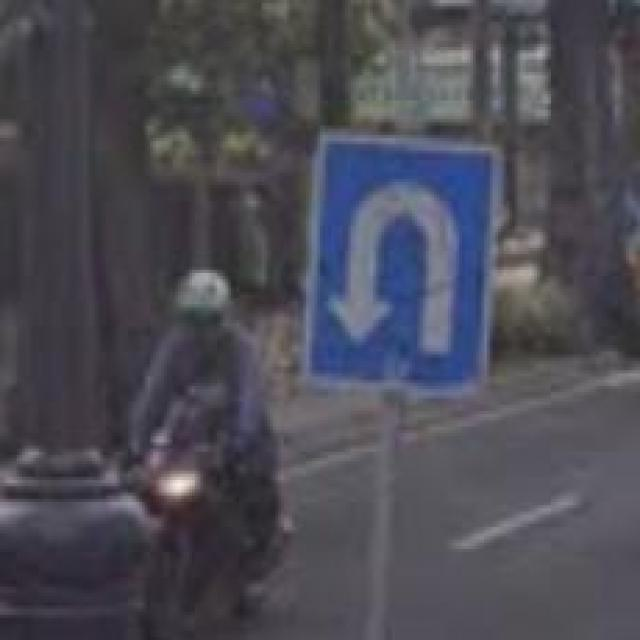U-turn: (321, 137, 476, 385)
